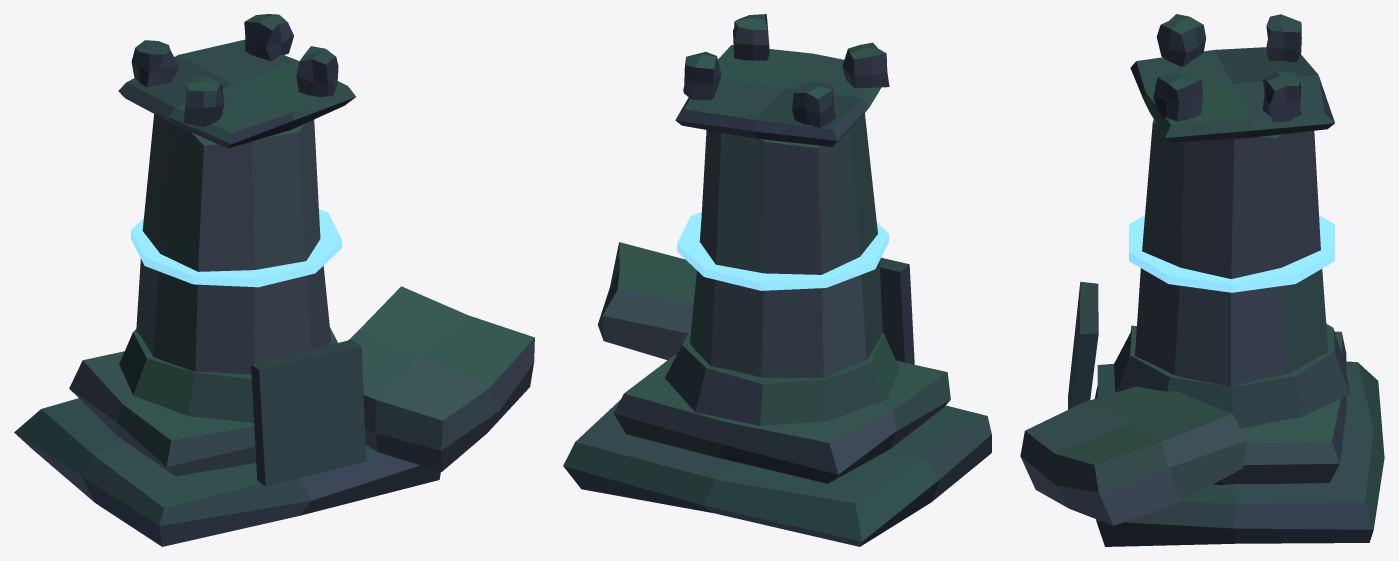
File: skill_rock_5.glb
3 views of the same model, side by side, from view 1: azimuth 30°, elevation 25°; view 2: azimuth 150°, elevation 25°; view 3: azimuth 270°, elevation 25° (orthographic).
Visible parts, largest first — view 1: skill_rock_5; view 2: skill_rock_5; view 3: skill_rock_5.
Part boxes in pixels (box(x1,y1,x2,y2)): skill_rock_5: box(14, 14, 534, 546); skill_rock_5: box(563, 14, 991, 546); skill_rock_5: box(1020, 14, 1384, 546).
Size of the model in its own units: 3.41 by 3.5 by 2.69.
